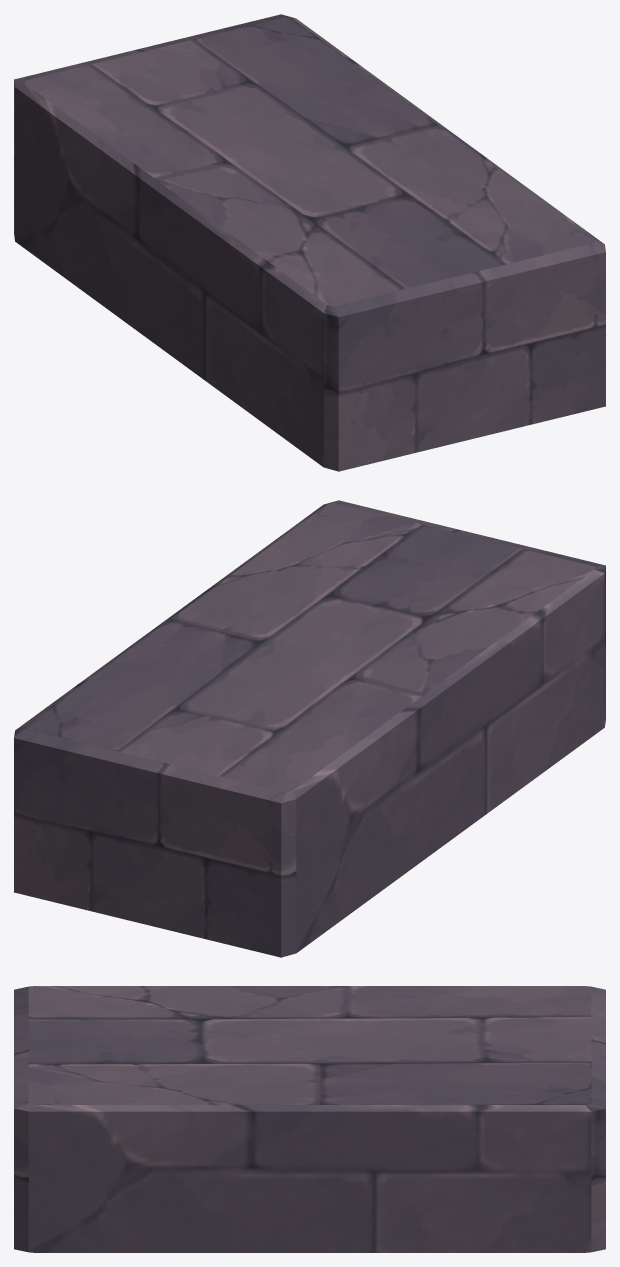
The model's file is Stone_brick_c.FBX.
3 renders of one model, top to bottom at view 1: azimuth 30°, elevation 25°; view 2: azimuth 150°, elevation 25°; view 3: azimuth 270°, elevation 25°, orthographic. The views are drawn at different scales.
Parts seen in each view (by area): view 1: Box023; view 2: Box023; view 3: Box023.
Boxes of the visible parts, x1,y1,x2,y2 form: Box023: [14, 14, 605, 471]; Box023: [14, 500, 605, 957]; Box023: [14, 986, 605, 1252].
Bounding box in the file's own units: 1.75 × 0.9647 × 3.49.
Materials: 1 (1 with a texture image).
